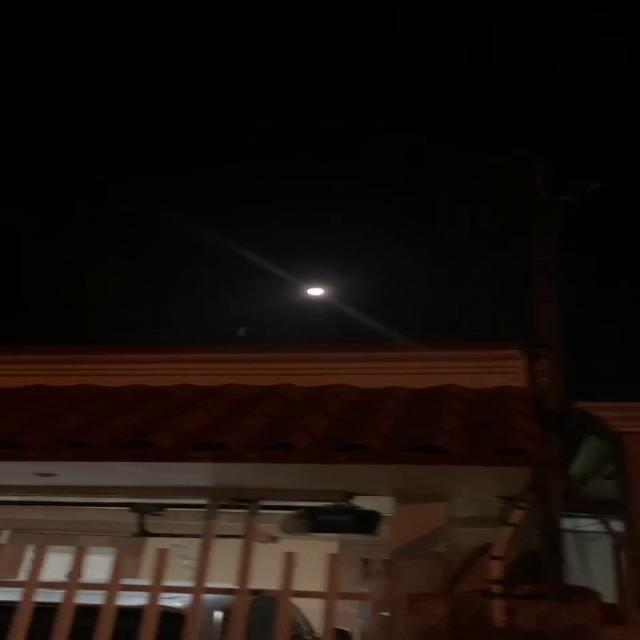moon: (294, 276, 347, 309)
